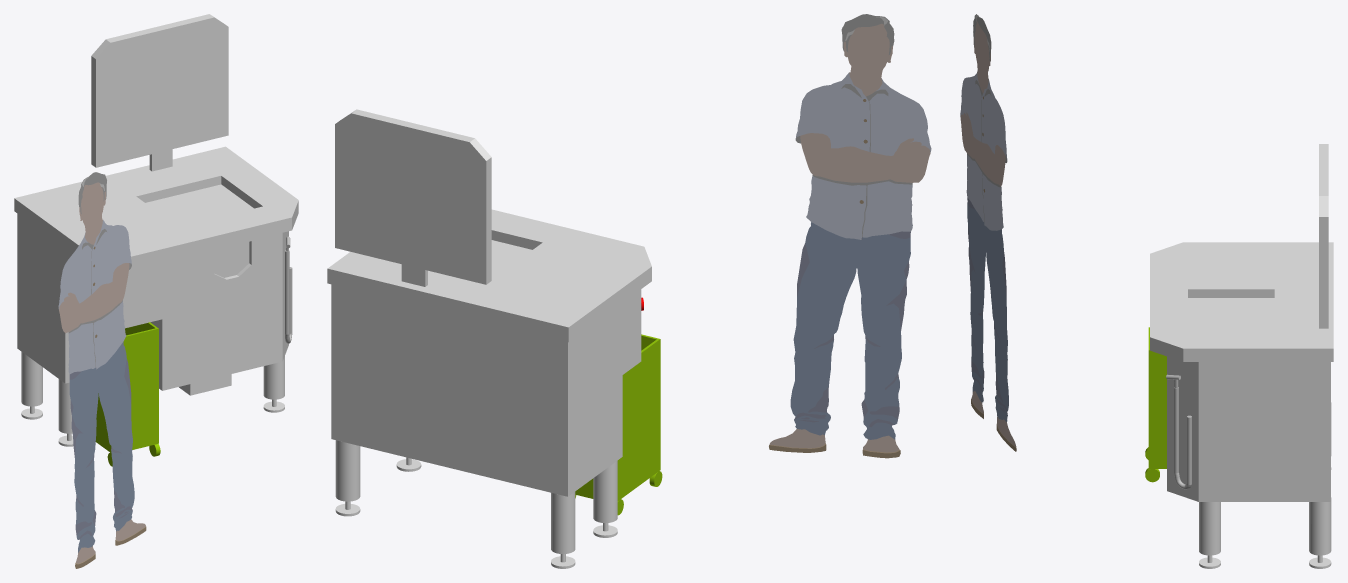
File: bio-grinder.glb
3 views of the same model, side by side, from view 1: azimuth 30°, elevation 25°; view 2: azimuth 150°, elevation 25°; view 3: azimuth 270°, elevation 25° (orthographic). The views are drawn at different scales.
Parts seen in each view (by area): view 1: 35234, Niraj, 34476, 34734, 31706, 40893, 35876, 41799, 47954, 48724, 34738; view 2: 35234, Niraj, 34734, 34476, 31706, 38177, 40893, 41799; view 3: 35234, 34476, Niraj, 31706, 34734, 38177, 35876, 47954.
Part boxes in pixels (x1,y1,x2,y2): 35234: [17, 214, 288, 390]; Niraj: [58, 172, 146, 568]; 34476: [14, 146, 298, 269]; 34734: [91, 14, 228, 167]; 31706: [95, 322, 158, 452]; 40893: [21, 351, 42, 419]; 35876: [263, 356, 284, 412]; 41799: [58, 379, 73, 446]; 47954: [285, 250, 292, 343]; 48724: [179, 374, 231, 395]; 34738: [149, 149, 172, 171]; 35234: [331, 284, 641, 496]; Niraj: [769, 14, 931, 458]; 34734: [335, 109, 491, 284]; 34476: [327, 209, 651, 342]; 31706: [575, 334, 660, 500]; 38177: [335, 440, 360, 516]; 40893: [551, 492, 575, 568]; 41799: [593, 460, 617, 537]; 35234: [1167, 356, 1330, 501]; 34476: [1150, 242, 1333, 361]; Niraj: [960, 14, 1016, 451]; 31706: [1148, 327, 1166, 468]; 34734: [1319, 144, 1328, 328]; 38177: [1309, 497, 1331, 568]; 35876: [1199, 502, 1220, 568]; 47954: [1174, 387, 1191, 489].
Size of the model in its own units: 1.68 by 1.79 by 1.51.
